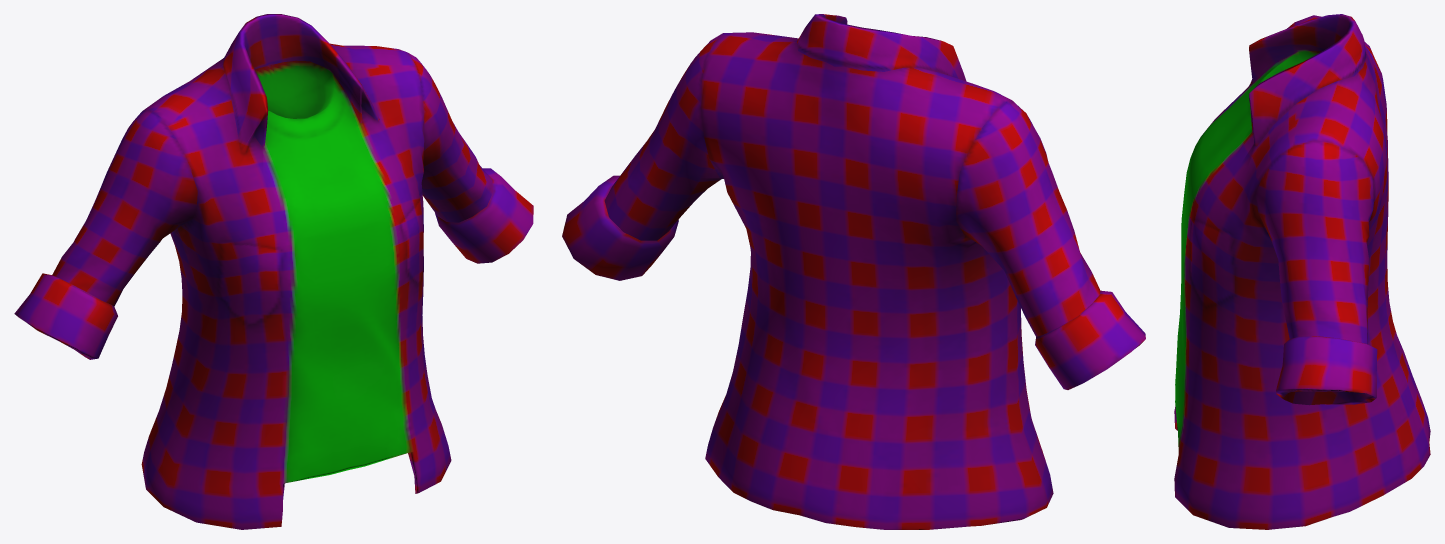
The model's file is Top_ButtonUpShort.obj.
3 renders of one model, left to right at view 1: azimuth 30°, elevation 25°; view 2: azimuth 150°, elevation 25°; view 3: azimuth 270°, elevation 25°, orthographic. The views are drawn at different scales.
Visible parts, largest first — view 1: Top_ButtonUpShort_0; view 2: Top_ButtonUpShort_0; view 3: Top_ButtonUpShort_0.
Part boxes in pixels (<box>): Top_ButtonUpShort_0: <box>14,14,533,529</box>; Top_ButtonUpShort_0: <box>562,14,1145,529</box>; Top_ButtonUpShort_0: <box>1174,14,1430,529</box>.
Size of the model in its own units: 0.6664 by 0.5493 by 0.2885.
1 material, 1 textured.
